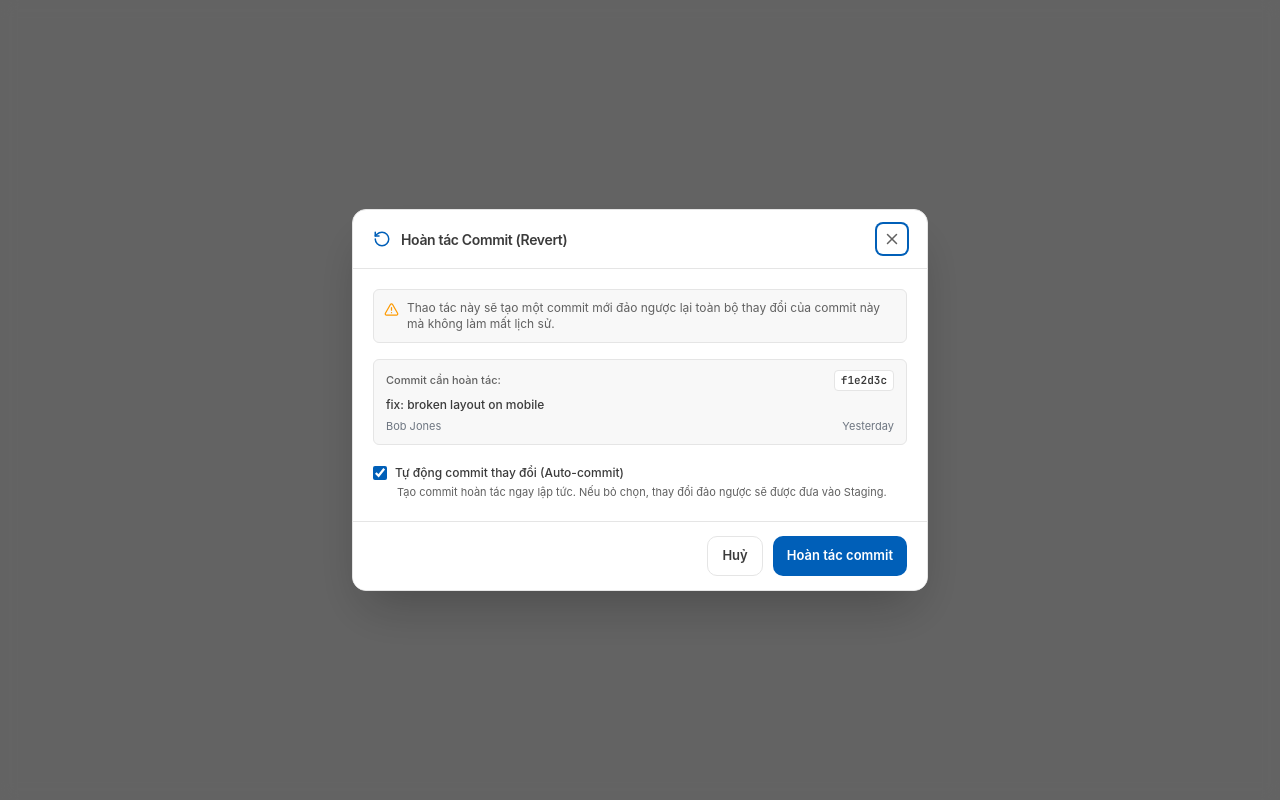
RevertModal › handles generic error without closing modal
Click the button "Hoàn tác commit".
click(840, 556)  # box [773,536,907,576]
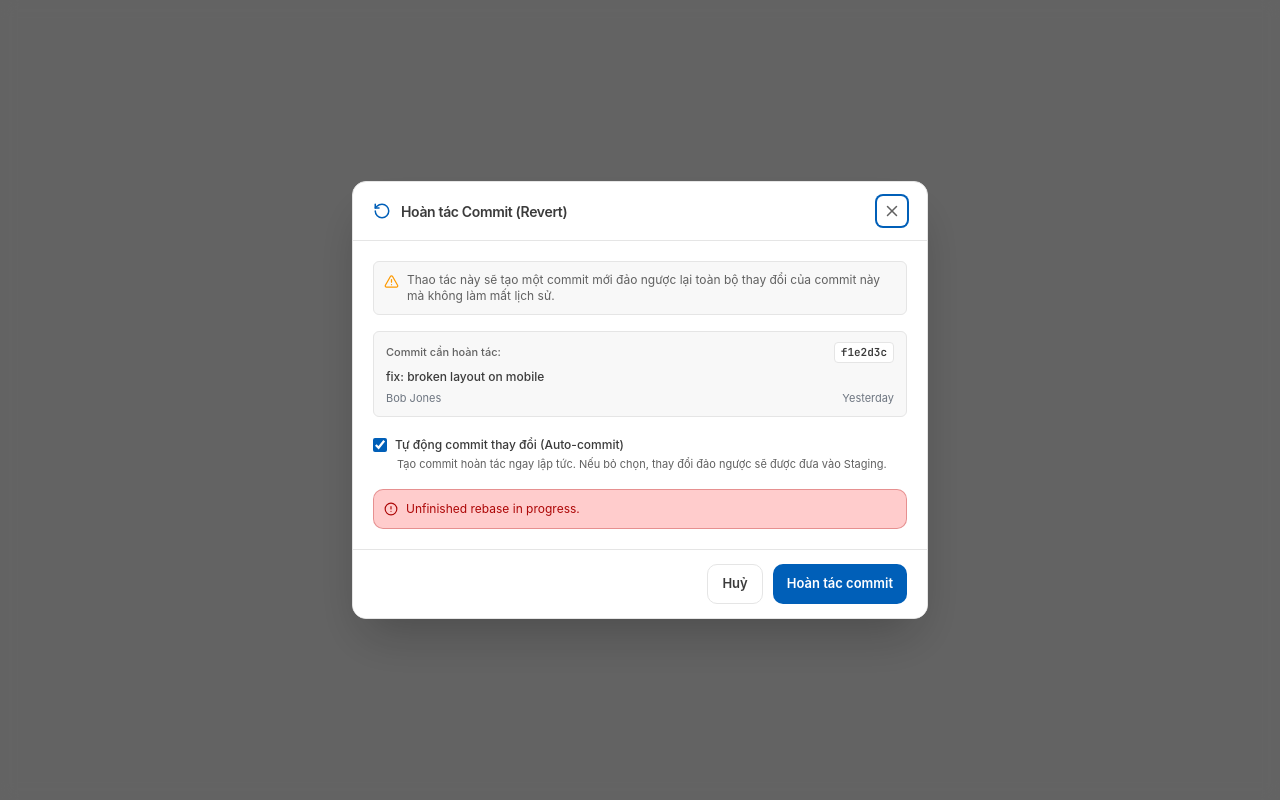
Check: the text "Unfinished rebase in progress." is shown, box [406,500,580,518]
